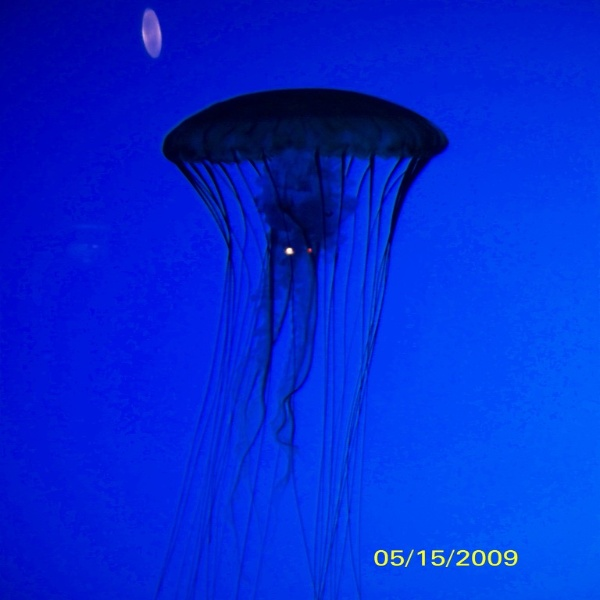Jellyfish: (151, 85, 448, 597)
